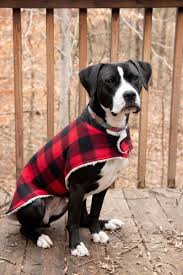dog_sitting: (7, 60, 152, 258)
